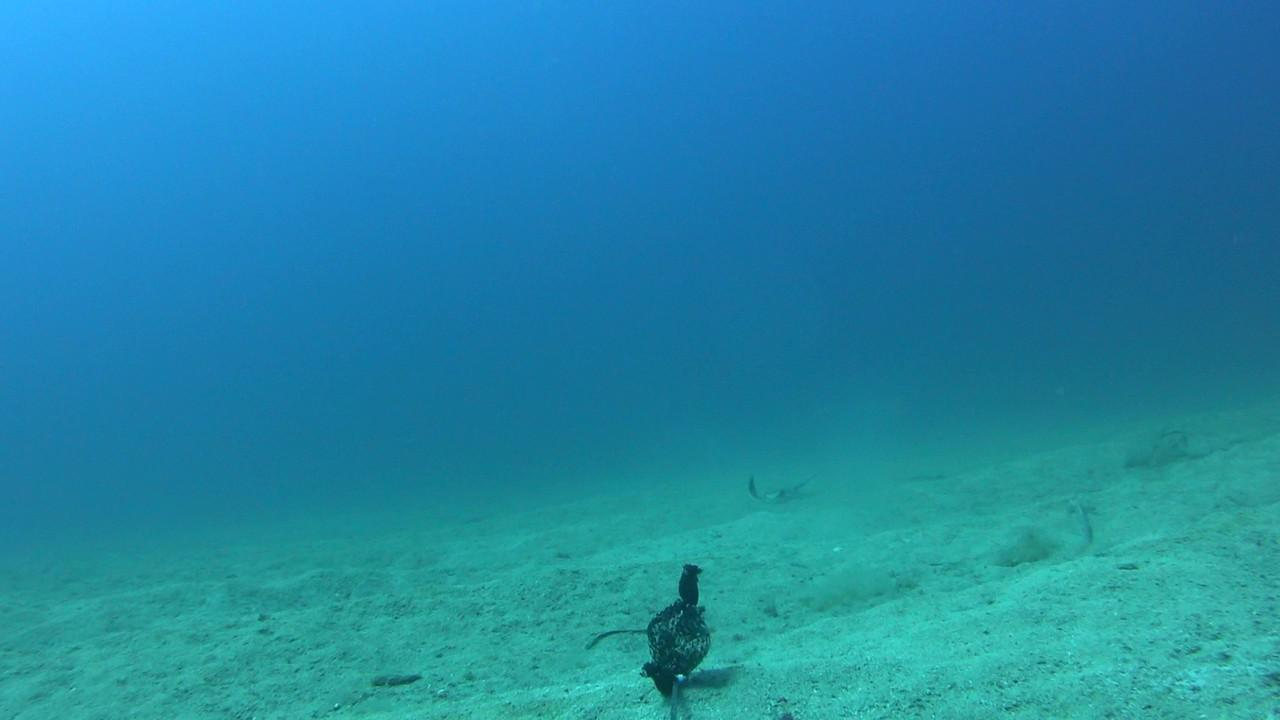myliobatis: (739, 462, 834, 509)
